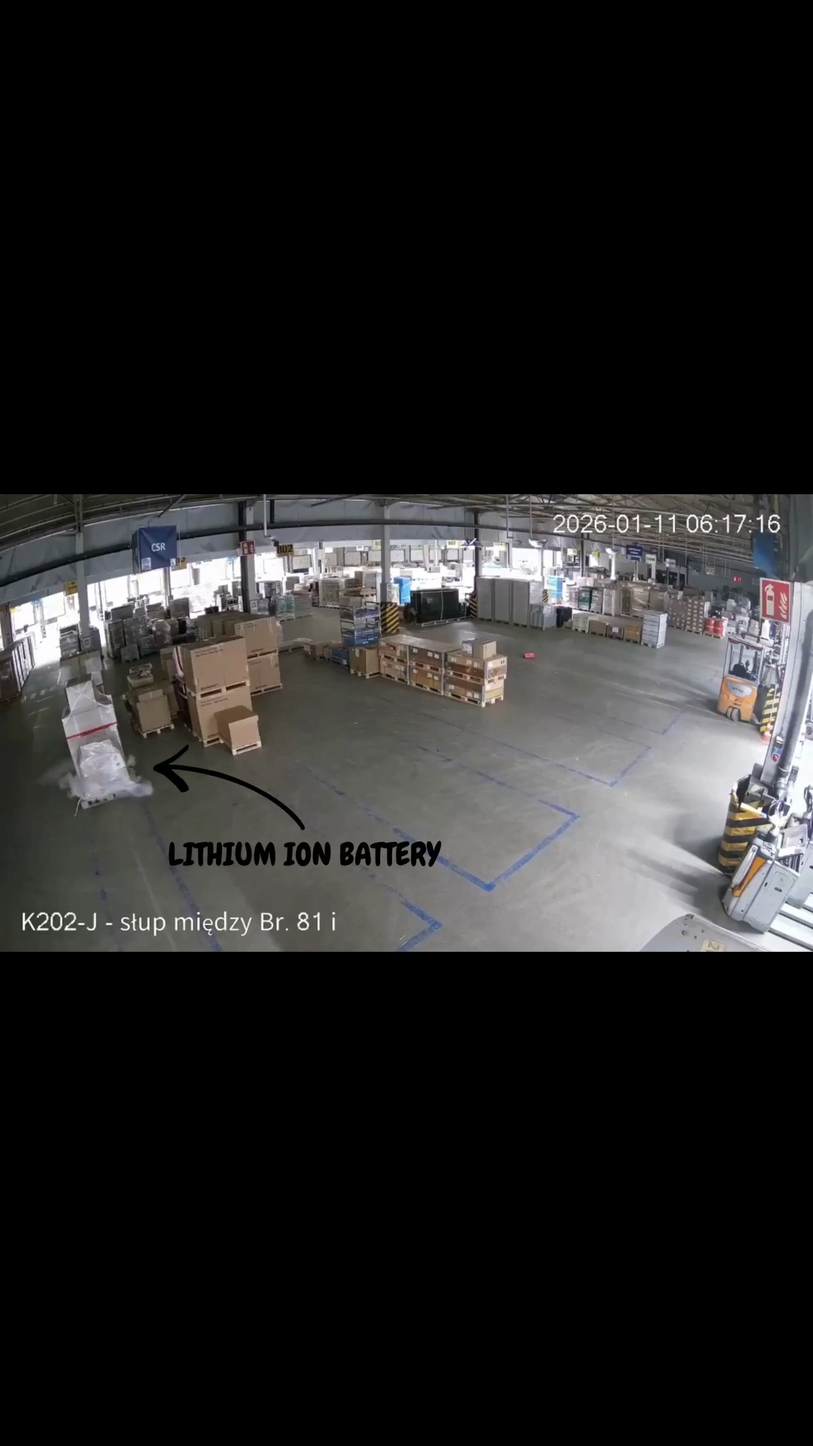smoke: (56, 725, 156, 814)
